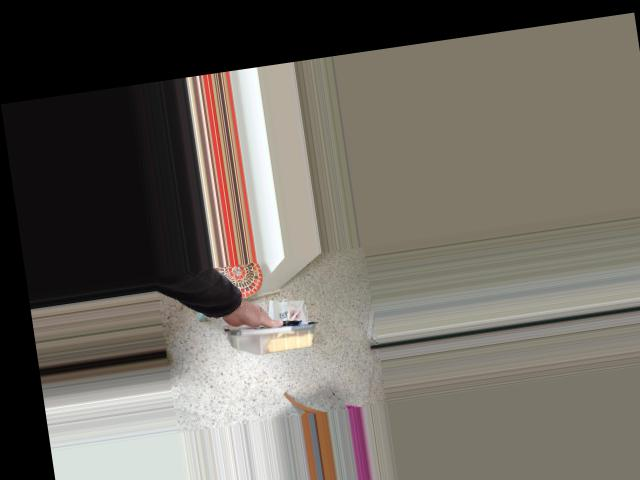cheese: (203, 275, 314, 384)
